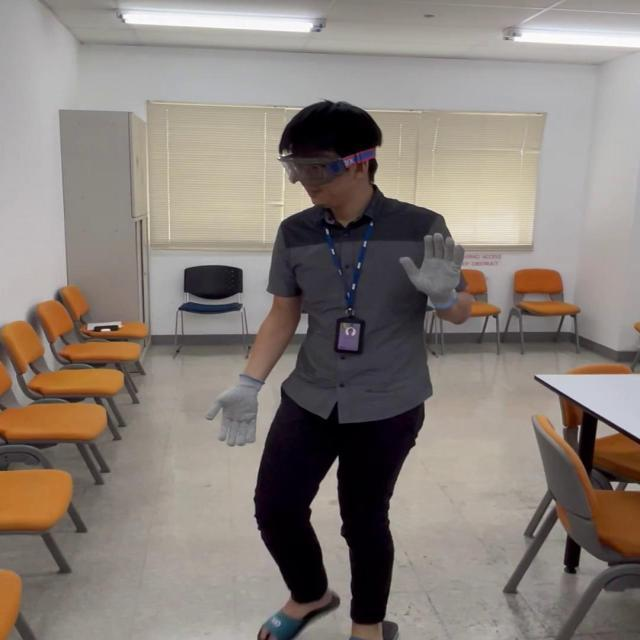gloved_hand: (398, 234, 465, 308), (213, 371, 265, 439)
